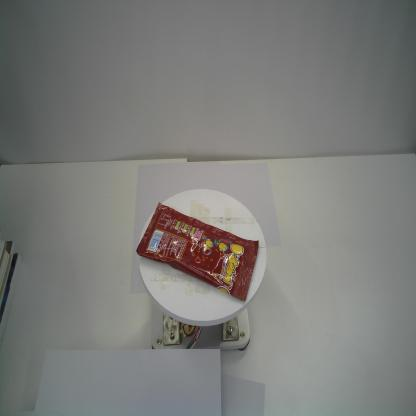Candy: (136, 202, 260, 301)
